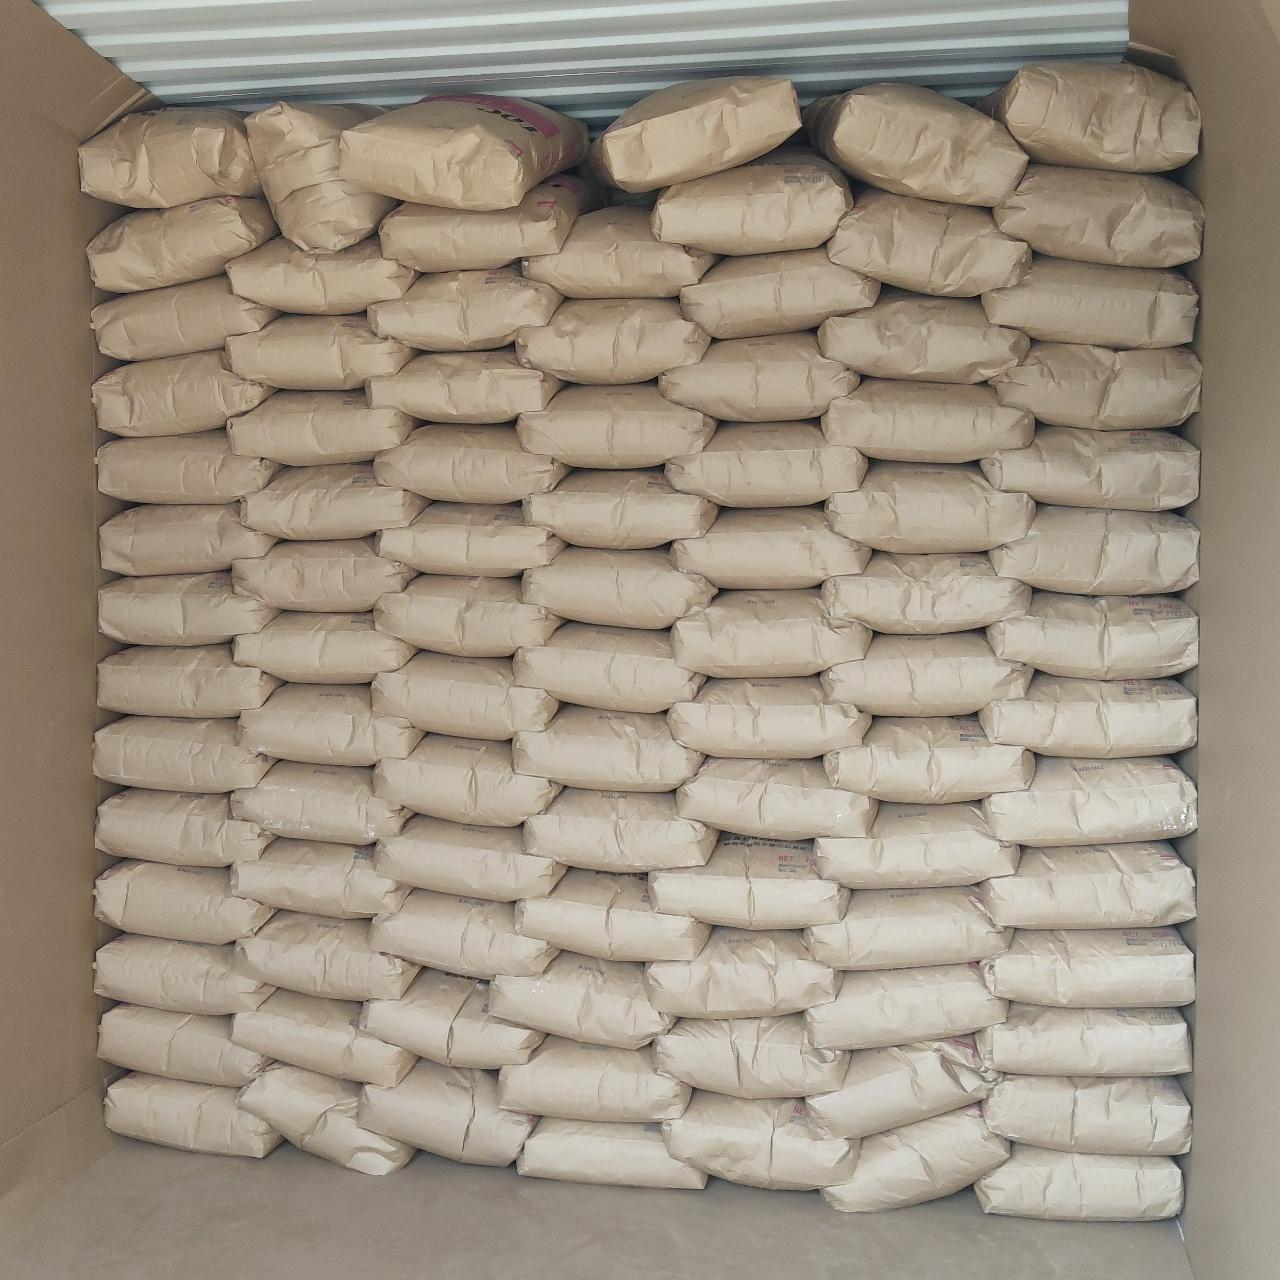sack: (340, 98, 586, 206), (810, 82, 1024, 204), (586, 76, 798, 190), (980, 60, 1198, 170), (245, 101, 395, 251), (826, 188, 1030, 294), (652, 146, 852, 254), (382, 174, 604, 270), (994, 164, 1202, 262), (818, 288, 1028, 382), (822, 1106, 1006, 1212), (808, 1036, 1002, 1134), (662, 1090, 856, 1188), (982, 256, 1196, 344), (240, 1064, 414, 1172), (984, 758, 1196, 844), (982, 426, 1198, 510), (826, 462, 1032, 550), (360, 1060, 534, 1164), (988, 592, 1198, 678), (80, 108, 260, 208), (980, 842, 1194, 926), (990, 506, 1198, 592), (88, 196, 278, 290), (360, 970, 542, 1068), (648, 836, 846, 926), (980, 674, 1194, 756), (990, 344, 1198, 428), (660, 332, 858, 420), (524, 206, 716, 296), (822, 380, 1032, 462), (822, 632, 1030, 714), (680, 248, 878, 334), (672, 590, 870, 676), (234, 990, 414, 1084), (516, 870, 708, 958), (490, 954, 672, 1046), (826, 716, 1030, 798), (816, 804, 1018, 886), (646, 928, 838, 1014), (806, 964, 1006, 1046), (982, 928, 1192, 1006), (372, 890, 558, 978), (368, 266, 562, 350), (822, 552, 1030, 630), (514, 624, 702, 710), (806, 888, 1012, 966), (666, 422, 866, 502), (516, 300, 710, 382), (678, 758, 876, 838), (672, 508, 870, 588), (374, 736, 558, 822), (376, 816, 564, 900), (514, 706, 702, 790), (524, 788, 716, 870), (518, 384, 714, 464), (984, 1076, 1190, 1152), (976, 1144, 1182, 1220), (372, 652, 558, 736), (670, 678, 870, 756), (500, 1036, 690, 1118), (976, 1004, 1190, 1076), (522, 548, 714, 628), (654, 1014, 846, 1094), (236, 912, 414, 998), (92, 274, 274, 358), (376, 424, 566, 502), (94, 350, 272, 432), (524, 470, 716, 546), (376, 576, 562, 654), (240, 684, 420, 764), (96, 860, 270, 942), (232, 762, 410, 842), (96, 934, 274, 1014), (106, 1074, 278, 1156), (98, 1004, 268, 1086), (226, 314, 414, 388), (228, 236, 416, 310), (368, 350, 560, 422), (232, 838, 406, 916), (242, 464, 426, 536), (376, 504, 564, 574), (228, 392, 414, 462), (518, 1118, 704, 1188), (98, 430, 278, 502), (100, 644, 280, 716), (100, 572, 278, 644), (94, 718, 270, 790), (234, 538, 414, 608), (234, 612, 414, 682), (98, 790, 272, 862), (100, 504, 276, 574)
